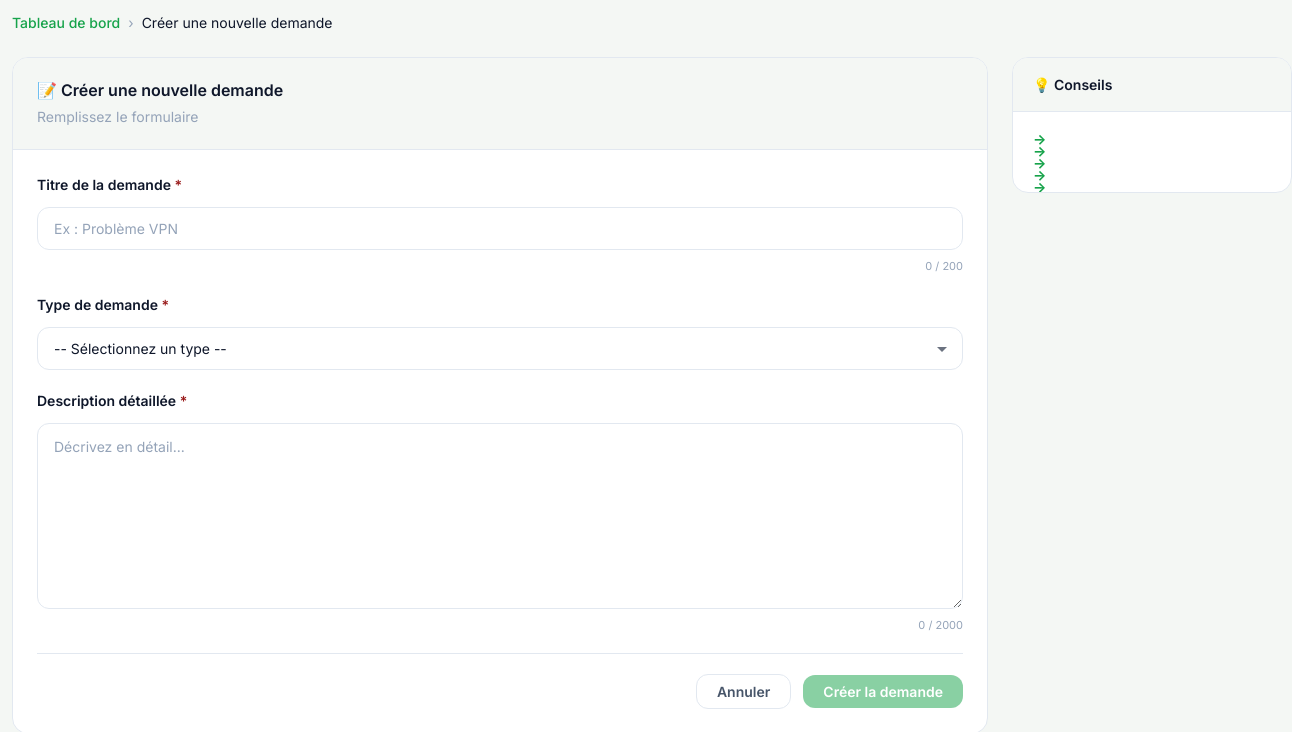
CreateRequestPage — validation des champs › le bouton est activé avec un formulaire valide
Type "Problème de connexion au VPN universitaire" into the field labelled "Titre de la demande *" at (500, 228), box [37,207,963,250]
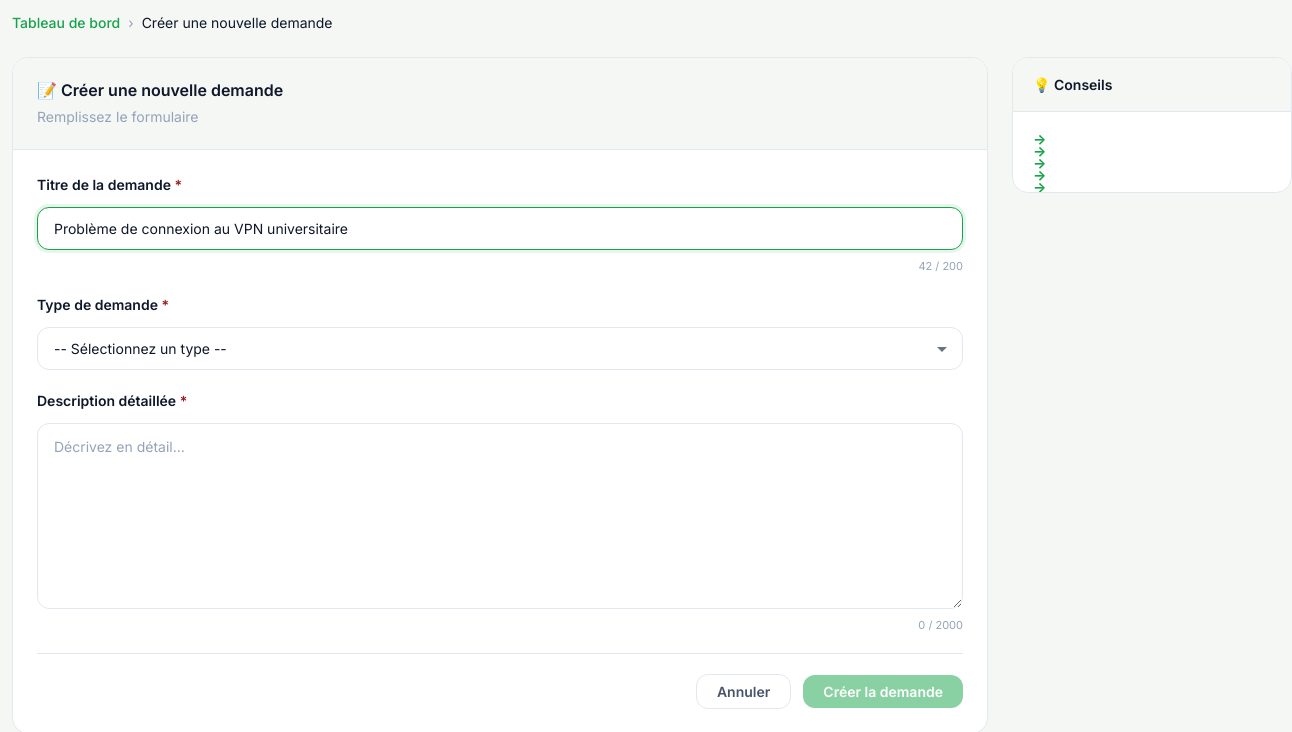
Select "Technique" in the dropdown labelled "Type de demande *" at (500, 349), box [37,327,963,370]
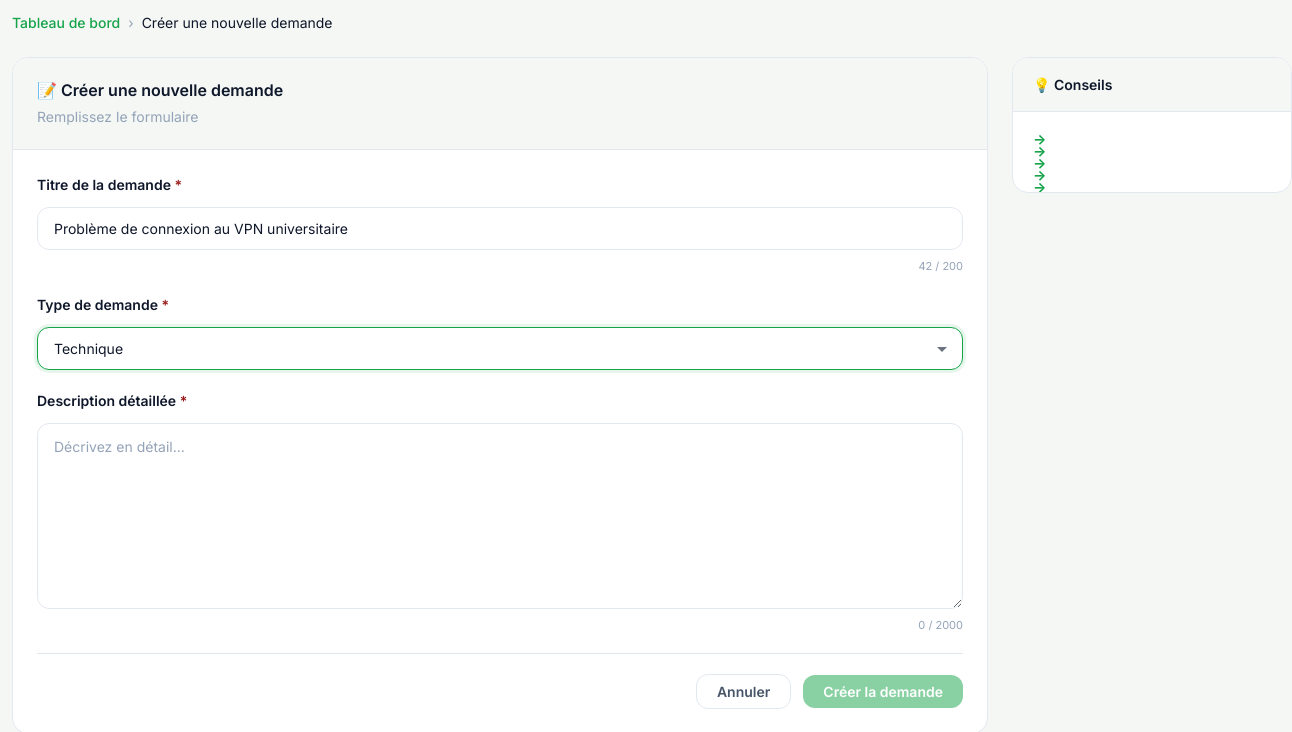
Type "Je ne parviens pas à me connecter au VPN depuis ce matin. Le message affiché est : timeout." into the text box labelled "Description détaillée *" at (500, 516), box [37,423,963,609]
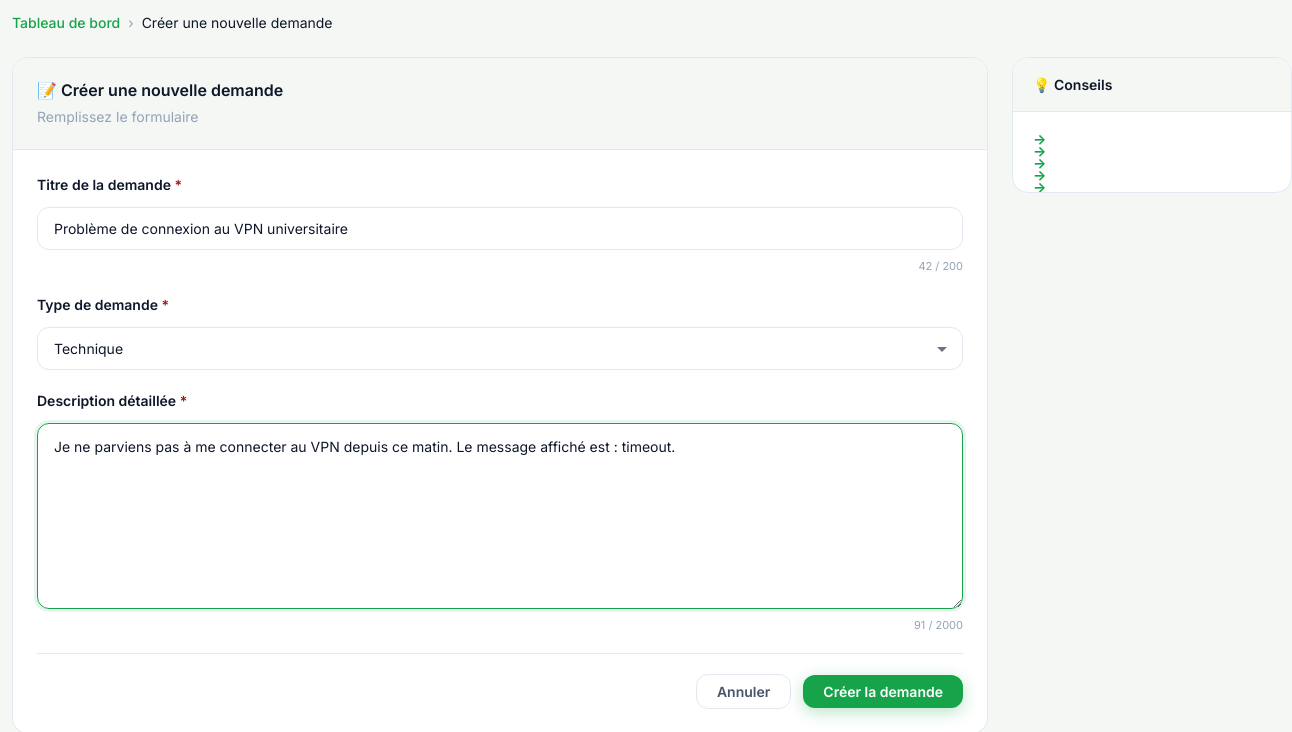
Check: the button "Créer la demande" is enabled, box [803,675,963,708]
